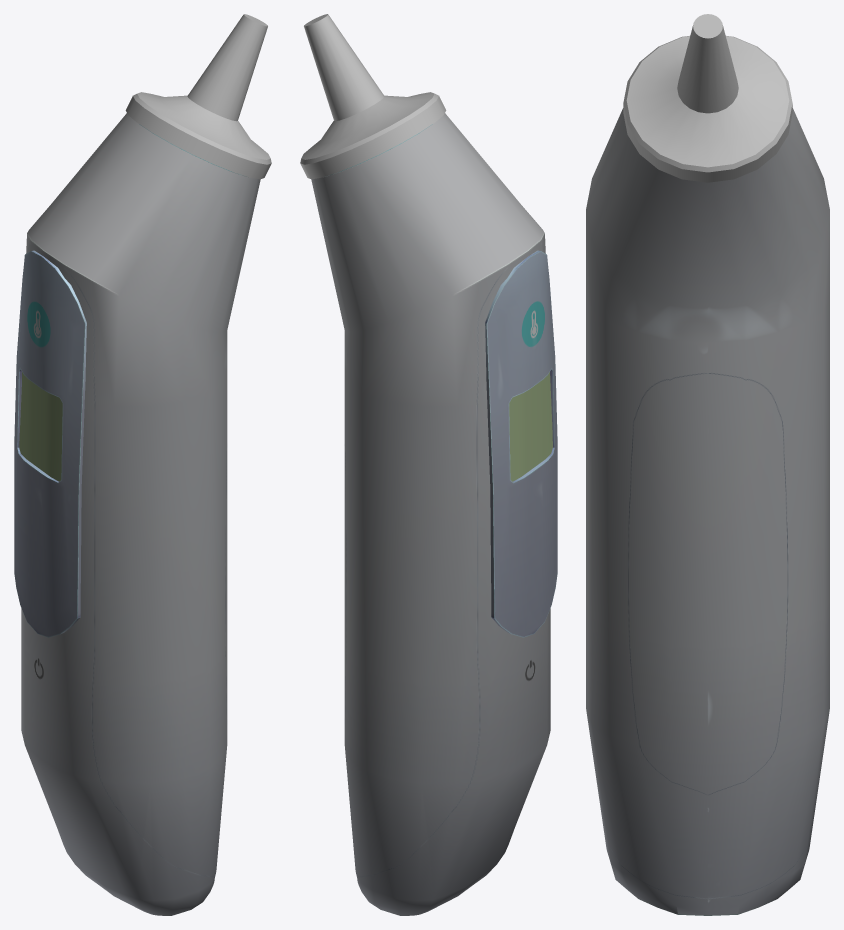
File: SM_Thermometer.fbx
The picture shows the model from 3 angles, left to right: view 1: azimuth 30°, elevation 25°; view 2: azimuth 150°, elevation 25°; view 3: azimuth 270°, elevation 25°; orthographic projection. The views are drawn at different scales.
Visible parts, largest first — view 1: Thermometer_body, Thermometer_panel, Thermometer_cap, Thermometer_screen; view 2: Thermometer_body, Thermometer_panel, Thermometer_cap, Thermometer_screen; view 3: Thermometer_body, Thermometer_cap.
Part boxes in pixels (<box>): Thermometer_body: <box>21,113,260,915</box>; Thermometer_panel: <box>14,250,86,637</box>; Thermometer_cap: <box>125,14,271,179</box>; Thermometer_screen: <box>19,372,62,481</box>; Thermometer_body: <box>311,113,550,915</box>; Thermometer_panel: <box>485,250,557,637</box>; Thermometer_cap: <box>300,14,446,179</box>; Thermometer_screen: <box>509,372,552,481</box>; Thermometer_body: <box>586,108,829,915</box>; Thermometer_cap: <box>623,14,792,182</box>.
Bounding box in the file's own units: 0.0513 × 0.1792 × 0.0428.
